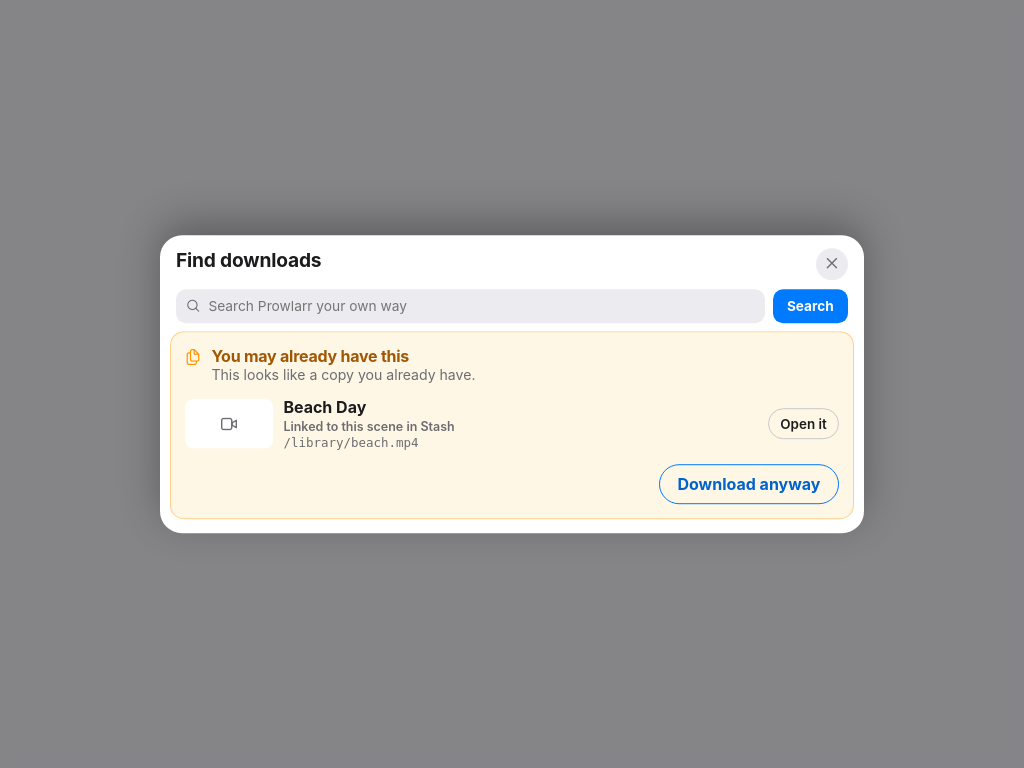
Test case: ReleasePickerComponent › through Prowlarr › warns about a copy you already have before listing downloads
Click the button "Download anyway".
click(749, 484)  # box [659,464,839,504]
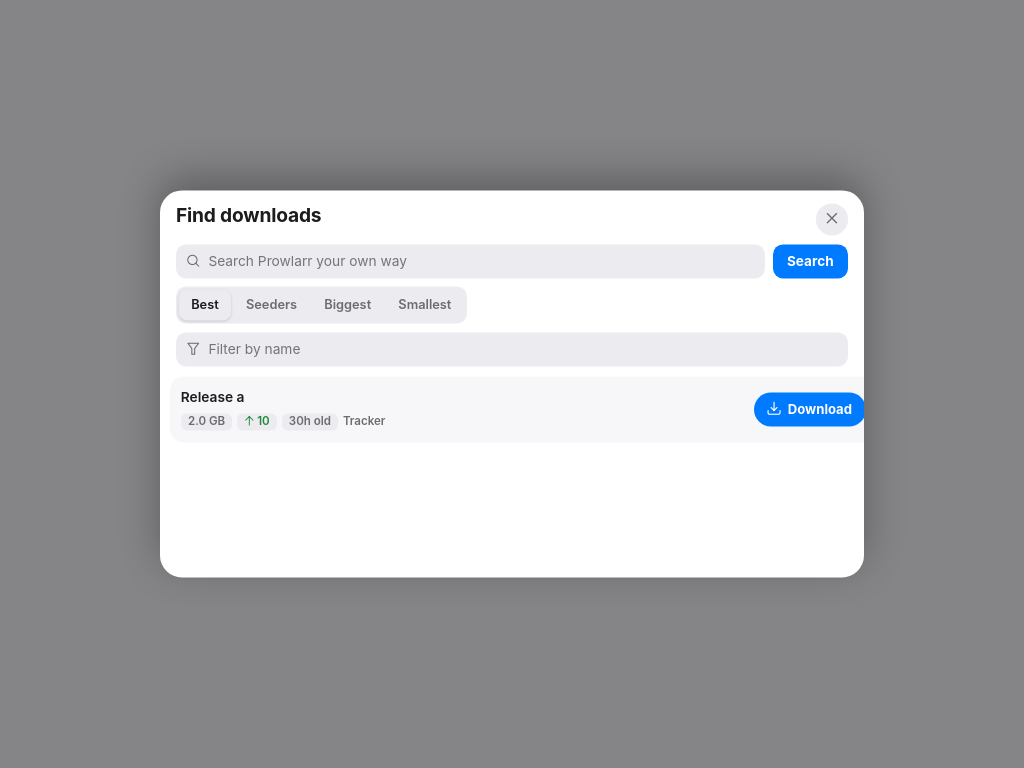
Expected: the button with class "download" is shown, [754,393,864,426]
Expected: the text "You may already have this" is gone
